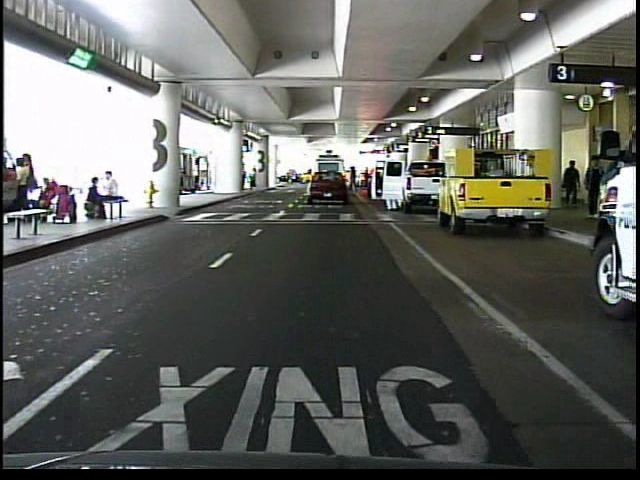person: (558, 156, 583, 213), (249, 166, 260, 191)
